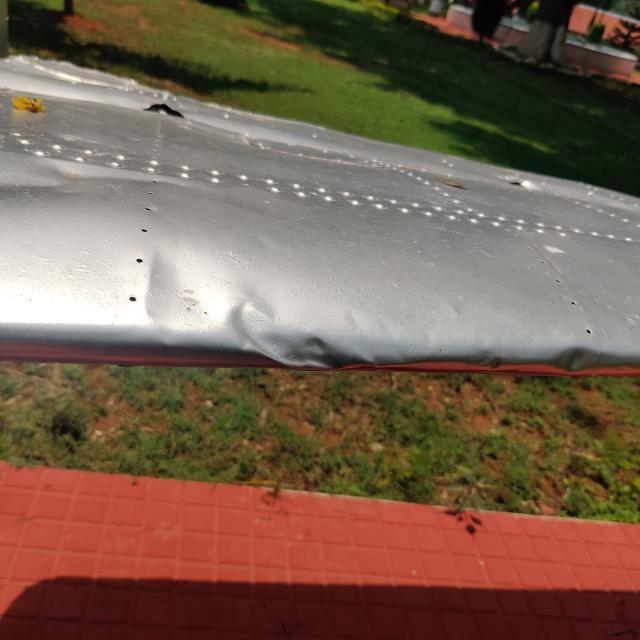dent: (224, 282, 384, 393), (0, 145, 198, 215), (542, 331, 604, 391)
